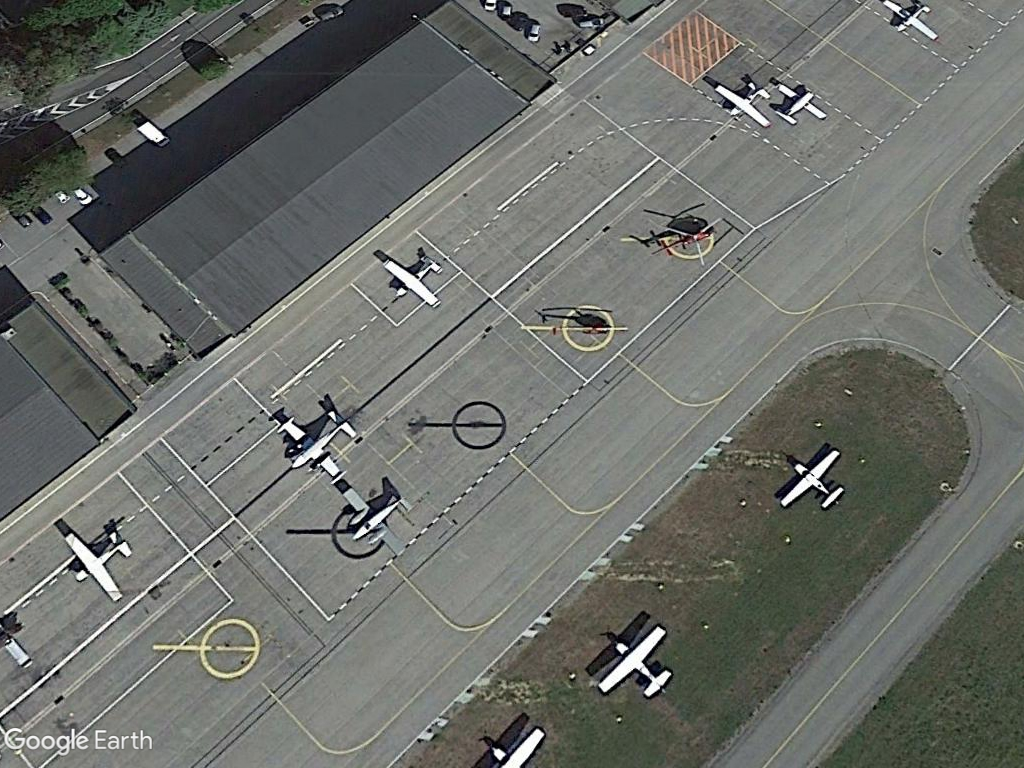helicopter: (620, 208, 728, 275), (514, 302, 633, 358)
trainer: (273, 410, 364, 488), (327, 488, 419, 562), (593, 622, 678, 702), (771, 444, 856, 514), (59, 529, 134, 605), (375, 254, 448, 312)
